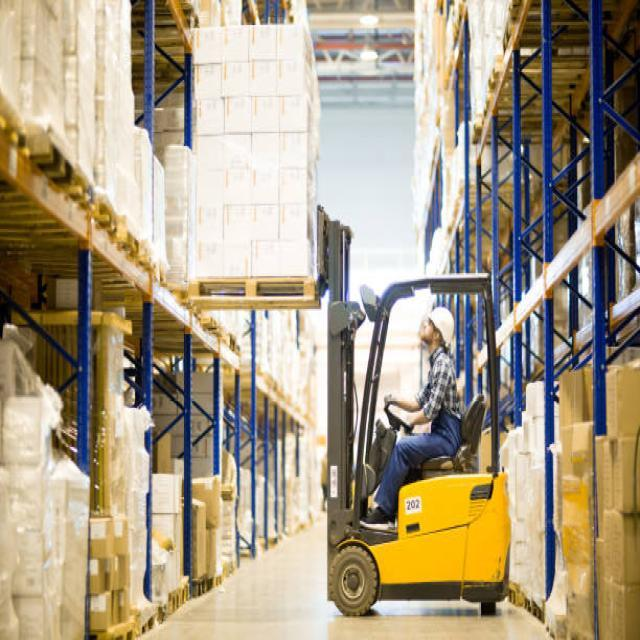driver: (364, 309, 464, 525)
forklift: (298, 187, 526, 628)
